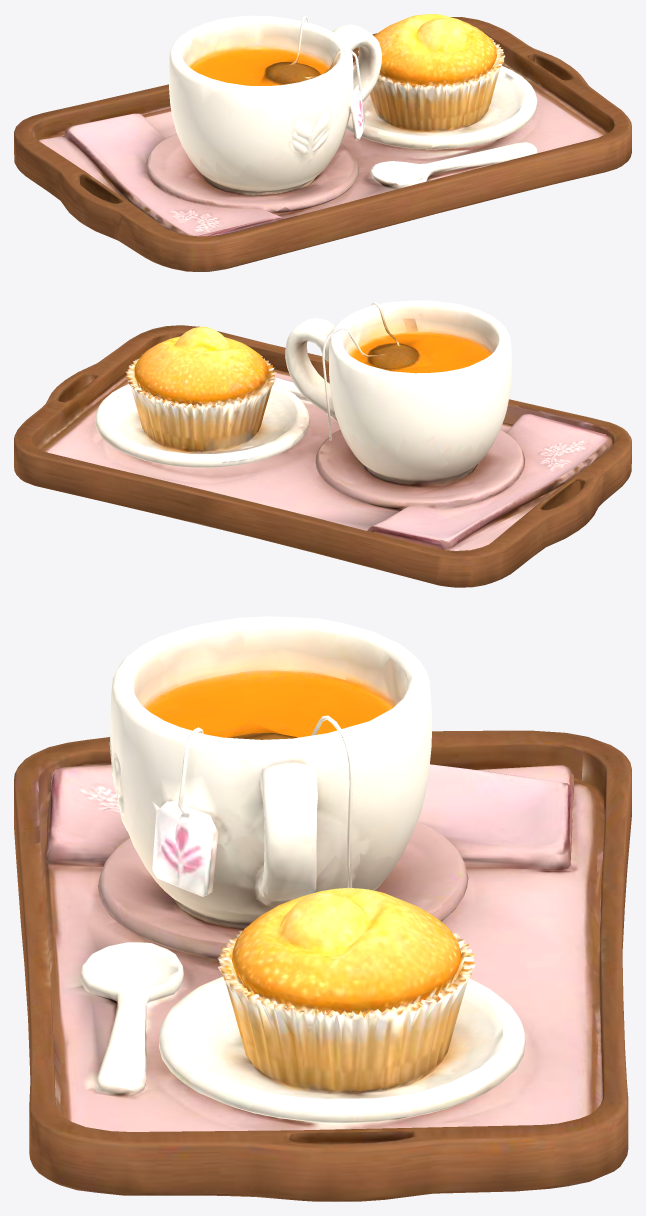
Rendered from te-magdalena.glb.
3 renders of one model, top to bottom at view 1: azimuth 30°, elevation 25°; view 2: azimuth 150°, elevation 25°; view 3: azimuth 270°, elevation 25°, orthographic. The views are drawn at different scales.
Parts seen in each view (by area): view 1: node_0.003; view 2: node_0.003; view 3: node_0.003.
Boxes of the visible parts, box(x1,y1,x2,y2) form: node_0.003: box(14, 14, 631, 271); node_0.003: box(14, 300, 631, 587); node_0.003: box(14, 616, 631, 1201).
Size of the model in its own units: 0.6149 by 0.1722 by 0.3762.
Materials: 1 (1 with a texture image).
